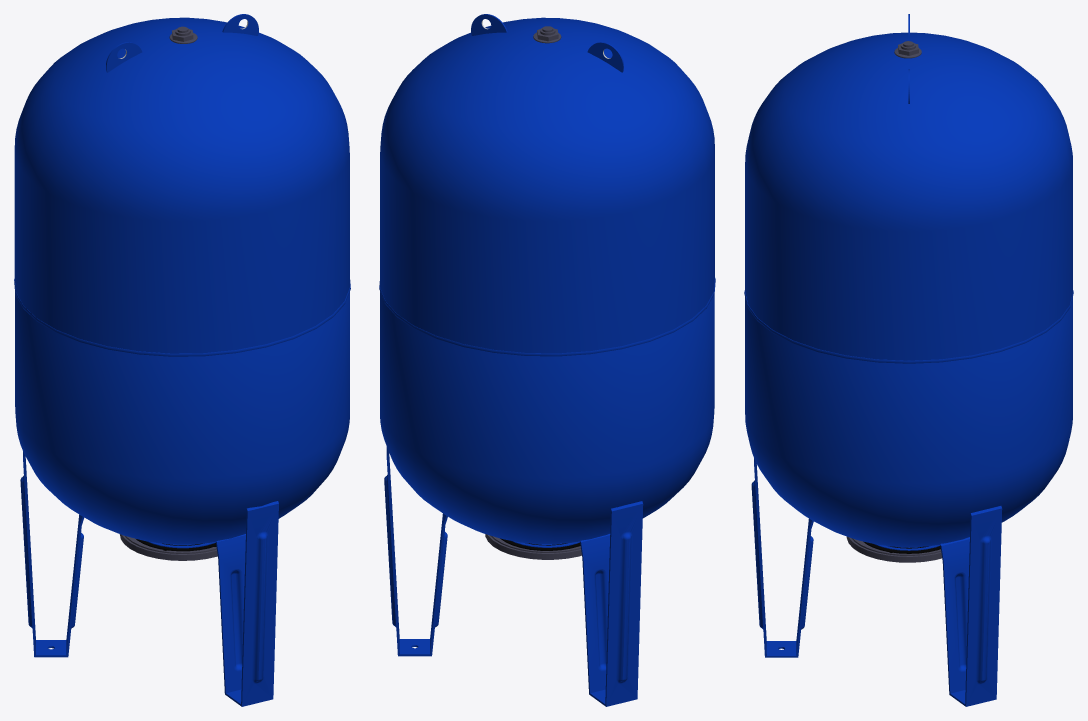
The model's file is 300lt-manometresiz-dik-ayaklı.obj.
3 renders of one model, left to right at view 1: azimuth 30°, elevation 25°; view 2: azimuth 150°, elevation 25°; view 3: azimuth 270°, elevation 25°, orthographic. The views are drawn at different scales.
Visible parts, largest first — view 1: 300lt-manometresiz-dik-ayaklı.005, 300lt-manometresiz-dik-ayaklı.009, 300lt-manometresiz-dik-ayaklı.010, 300lt-manometresiz-dik-ayaklı.004, 300lt-manometresiz-dik-ayaklı.007, 300lt-manometresiz-dik-ayaklı.006, 300lt-manometresiz-dik-ayaklı.011, 300lt-manometresiz-dik-ayaklı.012; view 2: 300lt-manometresiz-dik-ayaklı.005, 300lt-manometresiz-dik-ayaklı.009, 300lt-manometresiz-dik-ayaklı.004, 300lt-manometresiz-dik-ayaklı.002, 300lt-manometresiz-dik-ayaklı.007, 300lt-manometresiz-dik-ayaklı.006, 300lt-manometresiz-dik-ayaklı.011, 300lt-manometresiz-dik-ayaklı.012; view 3: 300lt-manometresiz-dik-ayaklı.005, 300lt-manometresiz-dik-ayaklı.009, 300lt-manometresiz-dik-ayaklı.002, 300lt-manometresiz-dik-ayaklı.010, 300lt-manometresiz-dik-ayaklı.007, 300lt-manometresiz-dik-ayaklı.006.
Part boxes in pixels (bbox=[...]): 300lt-manometresiz-dik-ayaklı.005: bbox=[14, 17, 349, 353]; 300lt-manometresiz-dik-ayaklı.009: bbox=[15, 292, 349, 548]; 300lt-manometresiz-dik-ayaklı.010: bbox=[216, 501, 278, 706]; 300lt-manometresiz-dik-ayaklı.004: bbox=[20, 451, 84, 657]; 300lt-manometresiz-dik-ayaklı.007: bbox=[14, 278, 350, 356]; 300lt-manometresiz-dik-ayaklı.006: bbox=[119, 534, 217, 560]; 300lt-manometresiz-dik-ayaklı.011: bbox=[106, 42, 142, 72]; 300lt-manometresiz-dik-ayaklı.012: bbox=[222, 14, 258, 35]; 300lt-manometresiz-dik-ayaklı.005: bbox=[380, 17, 714, 353]; 300lt-manometresiz-dik-ayaklı.009: bbox=[380, 291, 714, 547]; 300lt-manometresiz-dik-ayaklı.004: bbox=[580, 501, 643, 706]; 300lt-manometresiz-dik-ayaklı.002: bbox=[384, 446, 447, 656]; 300lt-manometresiz-dik-ayaklı.007: bbox=[379, 278, 715, 356]; 300lt-manometresiz-dik-ayaklı.006: bbox=[485, 534, 581, 559]; 300lt-manometresiz-dik-ayaklı.011: bbox=[587, 42, 623, 72]; 300lt-manometresiz-dik-ayaklı.012: bbox=[471, 14, 507, 35]; 300lt-manometresiz-dik-ayaklı.005: bbox=[745, 32, 1072, 360]; 300lt-manometresiz-dik-ayaklı.009: bbox=[745, 297, 1072, 550]; 300lt-manometresiz-dik-ayaklı.002: bbox=[940, 506, 1002, 706]; 300lt-manometresiz-dik-ayaklı.010: bbox=[751, 458, 813, 657]; 300lt-manometresiz-dik-ayaklı.007: bbox=[744, 290, 1073, 363]; 300lt-manometresiz-dik-ayaklı.006: bbox=[846, 536, 941, 562].
Size of the model in its own units: 2.66 by 5.41 by 2.66.
